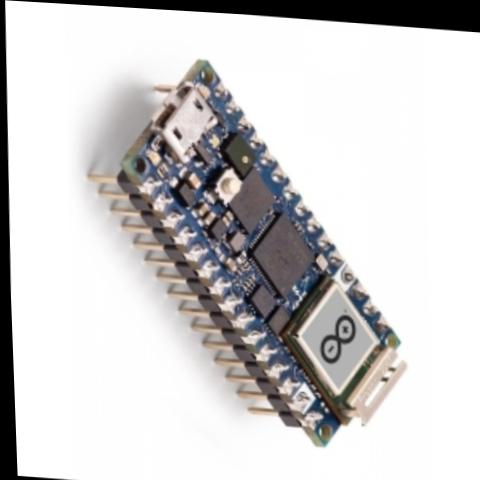Arduino-Nano: (75, 29, 421, 480)
